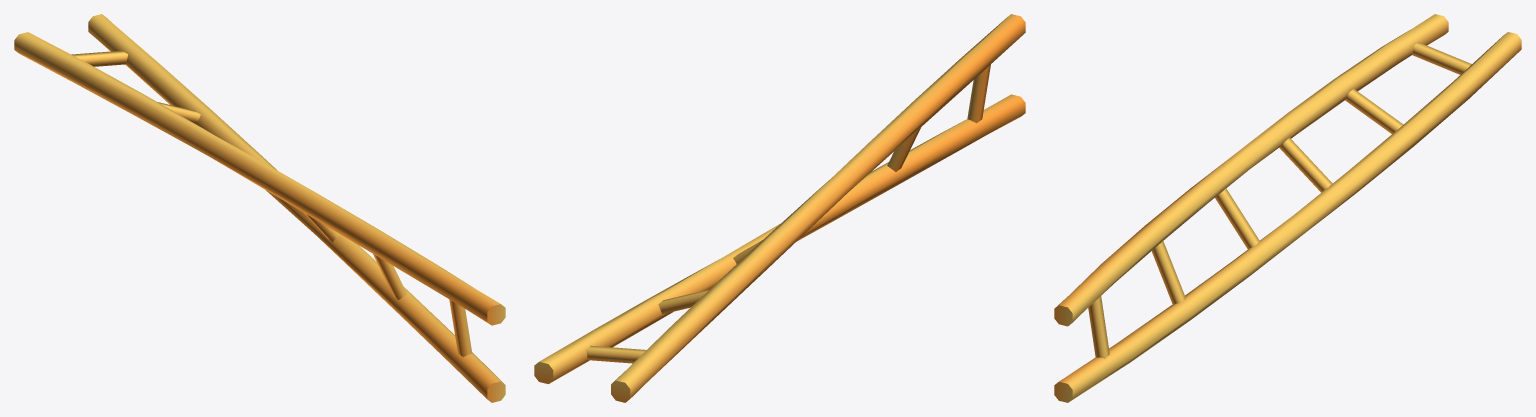
The model's file is kenney-coaster-coaster-mouse-straight-skew-left-side.glb.
3 views of the same model, side by side, from view 1: azimuth 30°, elevation 25°; view 2: azimuth 150°, elevation 25°; view 3: azimuth 330°, elevation 25° (orthographic). The views are drawn at different scales.
Visible parts, largest first — view 1: coaster-mouse-straight-skew-left-side; view 2: coaster-mouse-straight-skew-left-side; view 3: coaster-mouse-straight-skew-left-side.
Part boxes in pixels (box(x1,y1,x2,y2)): coaster-mouse-straight-skew-left-side: box(14, 14, 505, 402); coaster-mouse-straight-skew-left-side: box(534, 14, 1025, 402); coaster-mouse-straight-skew-left-side: box(1054, 14, 1521, 402).
Size of the model in its own units: 0.5103 by 0.5103 by 4.
Materials: 1 (1 with a texture image).
